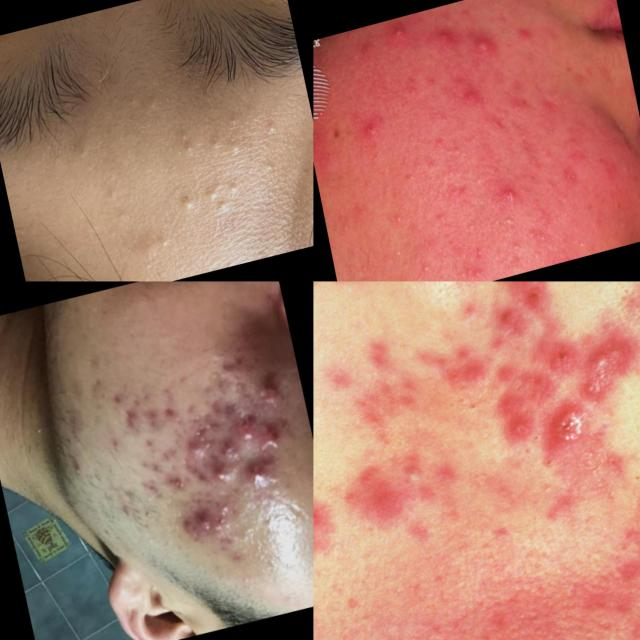8: (478, 378, 549, 457), (314, 482, 354, 564), (230, 408, 266, 450), (481, 281, 558, 300), (258, 375, 291, 411), (172, 433, 211, 462), (470, 28, 503, 59), (190, 499, 215, 536), (431, 22, 459, 55), (515, 18, 544, 48), (359, 109, 385, 142), (209, 463, 239, 491), (265, 422, 291, 451), (249, 464, 279, 489), (462, 87, 484, 114), (224, 436, 241, 461)
9: (390, 452, 438, 492)
blackheads: (582, 327, 640, 399), (550, 404, 603, 444), (111, 402, 142, 434)
dark spot: (218, 106, 244, 127), (74, 135, 96, 159), (119, 84, 138, 108)
